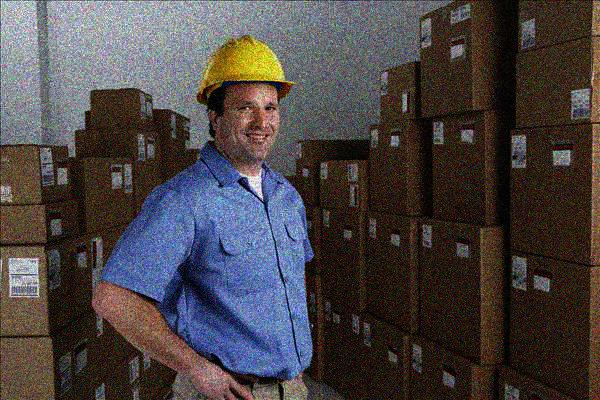helmet: (193, 35, 298, 167)
